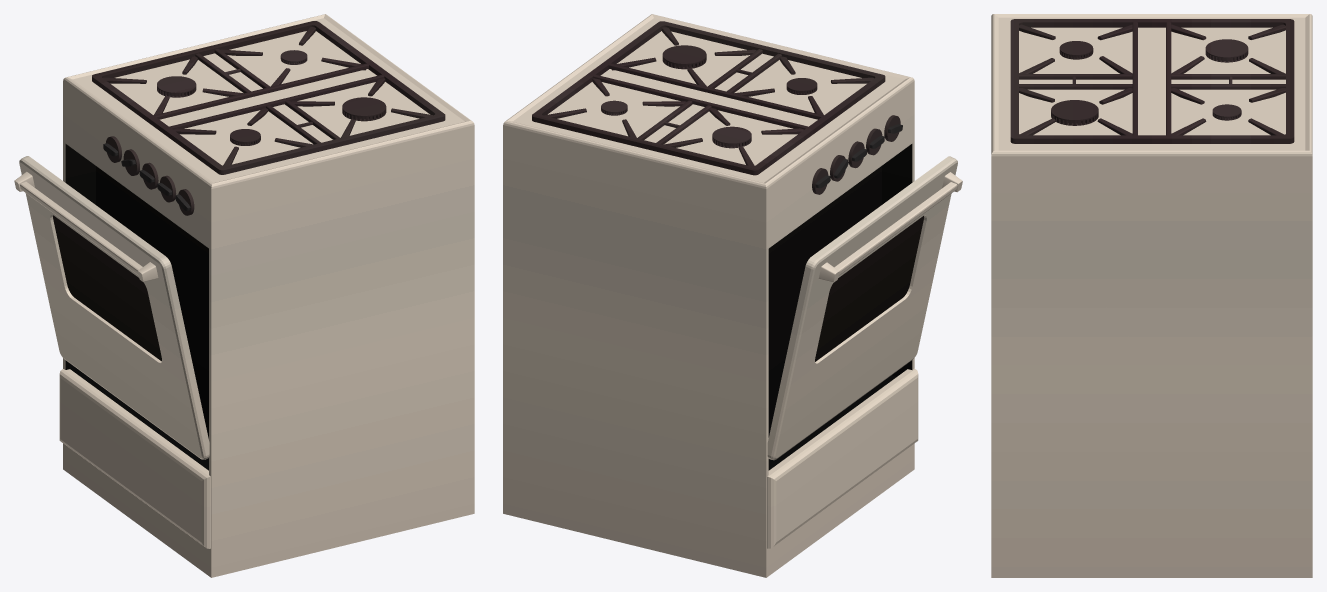
Rendered from stove.fbx.
3 renders of one model, left to right at view 1: azimuth 30°, elevation 25°; view 2: azimuth 150°, elevation 25°; view 3: azimuth 270°, elevation 25°, orthographic. The views are drawn at different scales.
Visible parts, largest first — view 1: stove; view 2: stove; view 3: stove.
Part boxes in pixels (x1=…): stove: x1=14, y1=14, x2=474, y2=577; stove: x1=503, y1=14, x2=962, y2=577; stove: x1=991, y1=14, x2=1312, y2=577.
Bounding box in the file's own units: 125 × 147 × 99.79.
